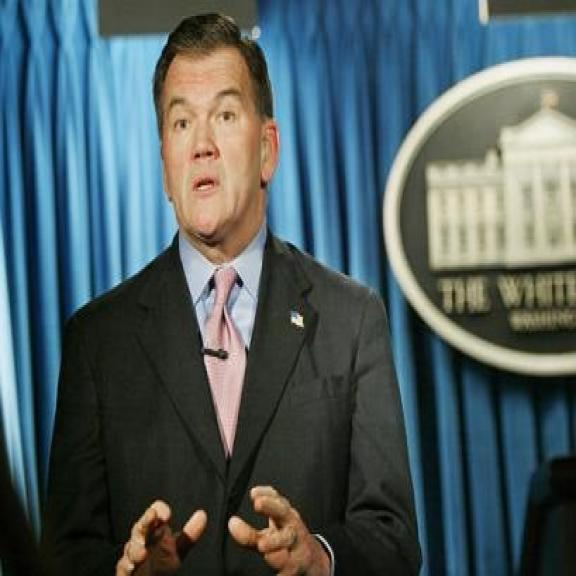face: (163, 53, 281, 238)
